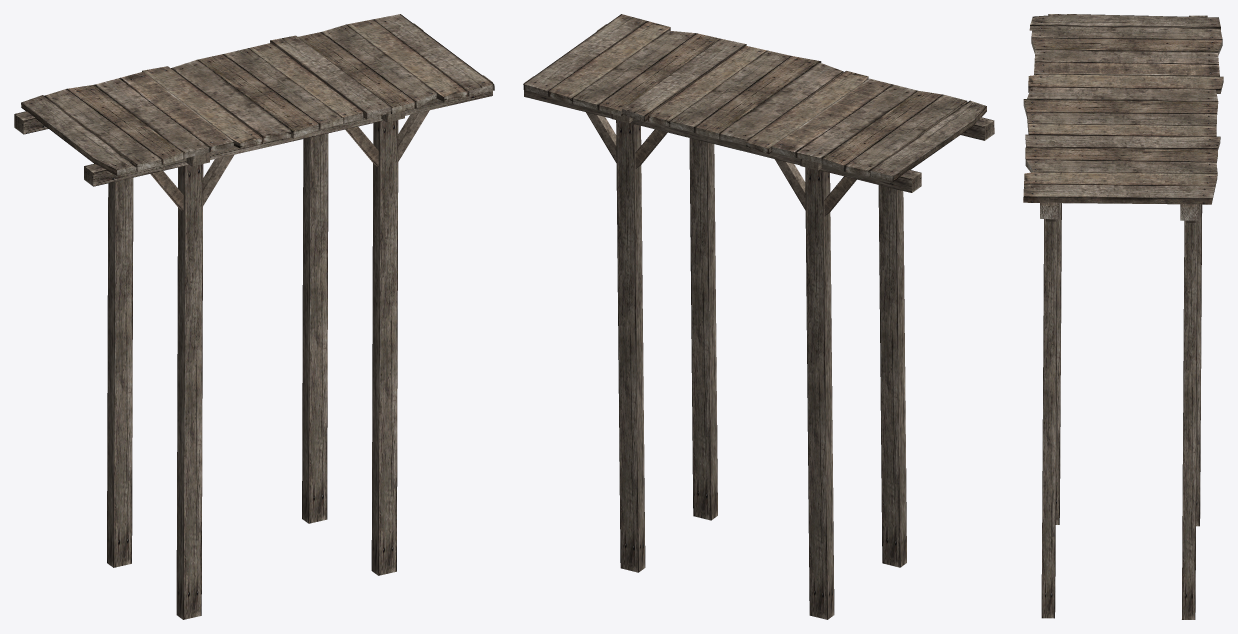
Rendered from d_sg_shouyou_matou01_qt.FBX.
The picture shows the model from 3 angles, left to right: view 1: azimuth 30°, elevation 25°; view 2: azimuth 150°, elevation 25°; view 3: azimuth 270°, elevation 25°; orthographic projection.
Parts seen in each view (by area): view 1: d_sg_shouyou_matou01_qt; view 2: d_sg_shouyou_matou01_qt; view 3: d_sg_shouyou_matou01_qt.
Boxes of the visible parts, x1,y1,x2,y2 form: d_sg_shouyou_matou01_qt: (14,14,494,619); d_sg_shouyou_matou01_qt: (523,14,994,619); d_sg_shouyou_matou01_qt: (1023,14,1223,619).
Size of the model in its own units: 14.98 by 17.13 by 6.67.
